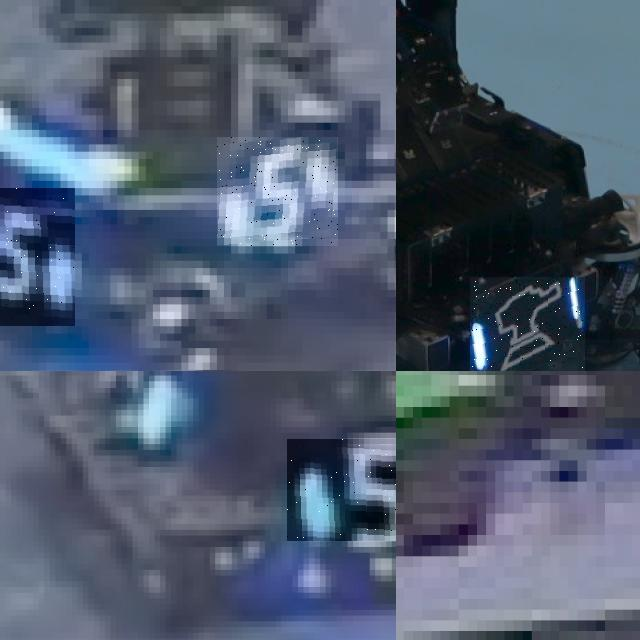B5: (217, 137, 338, 246), (287, 438, 396, 541), (0, 188, 75, 326)
Bs: (469, 277, 585, 371)
